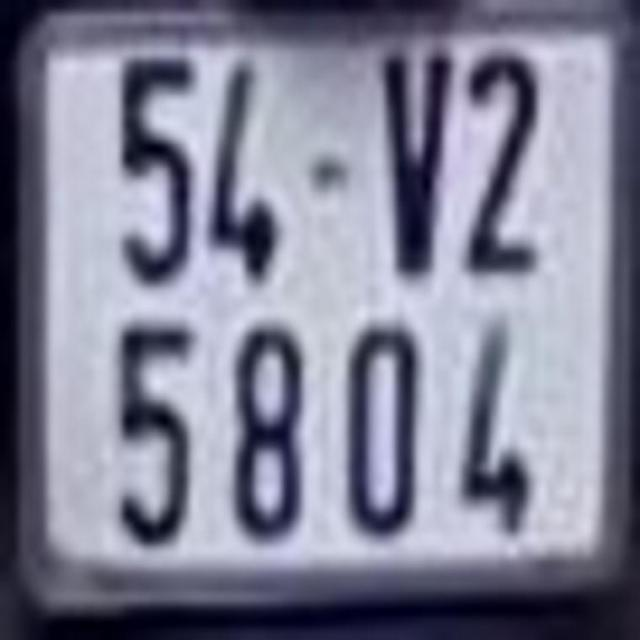0: (345, 322, 418, 541)
2: (462, 51, 544, 276)
4: (448, 311, 542, 536), (206, 58, 285, 281)
5: (116, 52, 200, 286), (114, 321, 193, 548)
8: (232, 319, 308, 540)
V: (376, 40, 449, 287)
